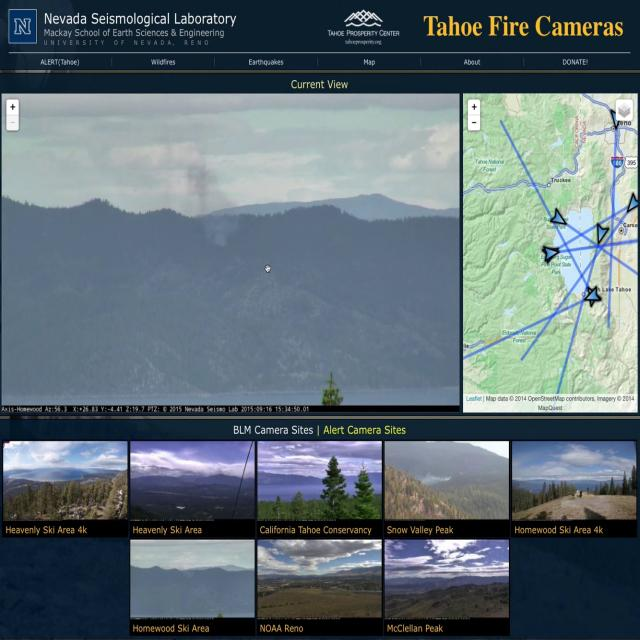smoke: (176, 141, 242, 250)
